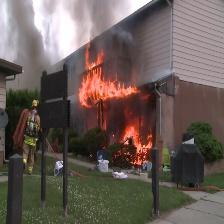fire: (108, 115, 156, 166), (77, 72, 144, 107), (79, 42, 107, 68)
